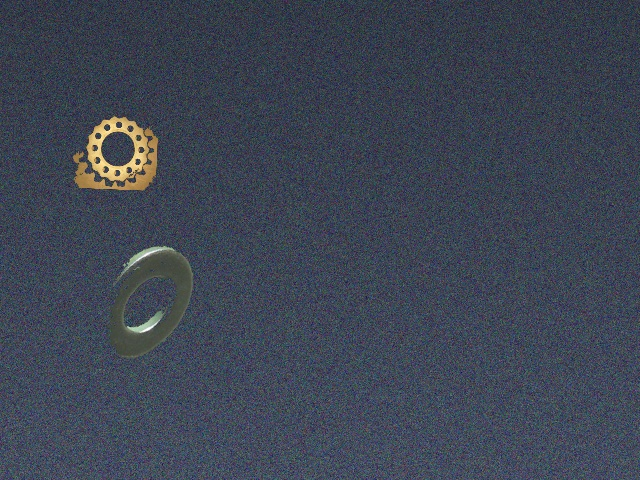gear: (73, 116, 157, 190)
washer: (104, 246, 193, 359)
